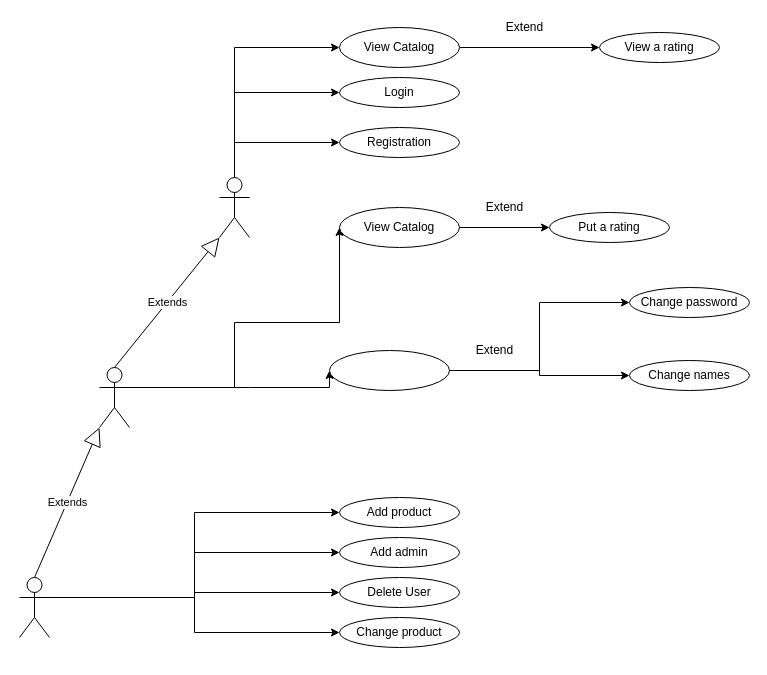
This 767x675 diagram has some shape labels left out. Here are the shapes that lost their labels. From the top down, the box of each, then its label:
(218, 176, 250, 238): User
(328, 350, 450, 390): View profile
(98, 366, 130, 428): AuthUser
(18, 576, 50, 638): Admin
